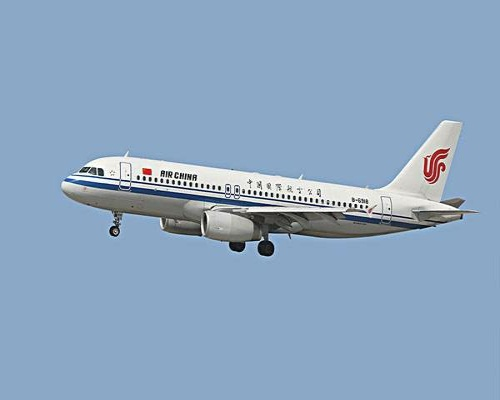plane: (56, 114, 481, 258)
